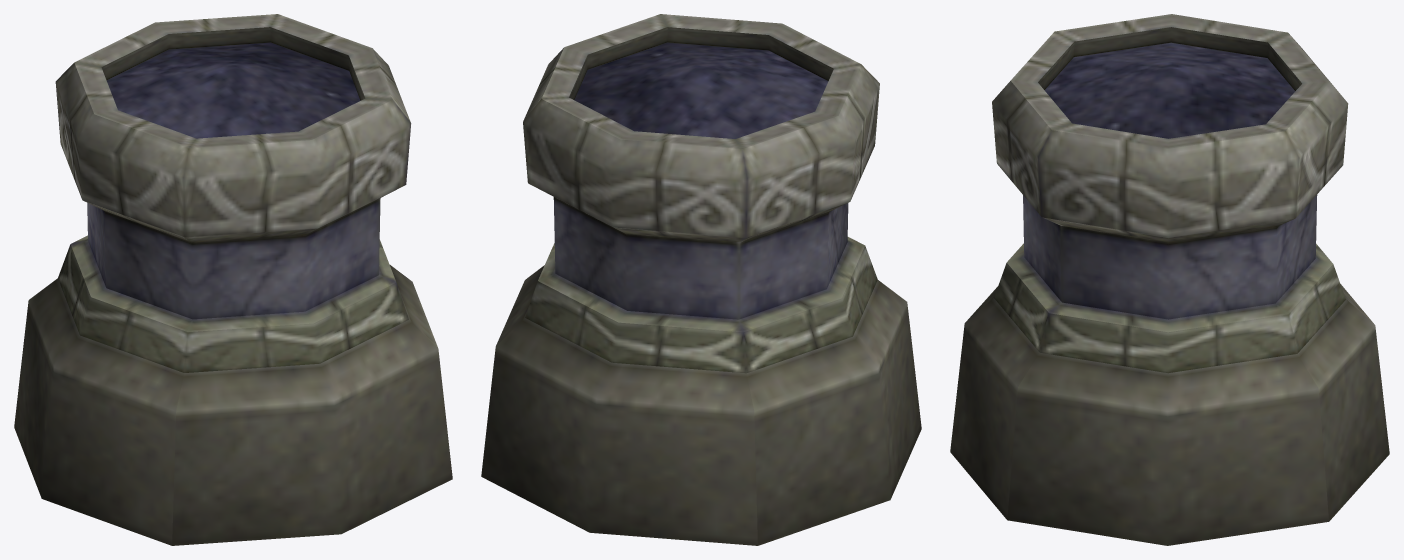
File: H_Ferry02a.FBX
The picture shows the model from 3 angles, left to right: view 1: azimuth 30°, elevation 25°; view 2: azimuth 150°, elevation 25°; view 3: azimuth 270°, elevation 25°; orthographic projection.
Visible parts, largest first — view 1: H_Ferry02a; view 2: H_Ferry02a; view 3: H_Ferry02a.
Part boxes in pixels (x1,y1,x2,y2): H_Ferry02a: (14,14,452,545); H_Ferry02a: (481,14,921,545); H_Ferry02a: (950,14,1389,545).
Bounding box in the file's own units: 180 × 174 × 180.
